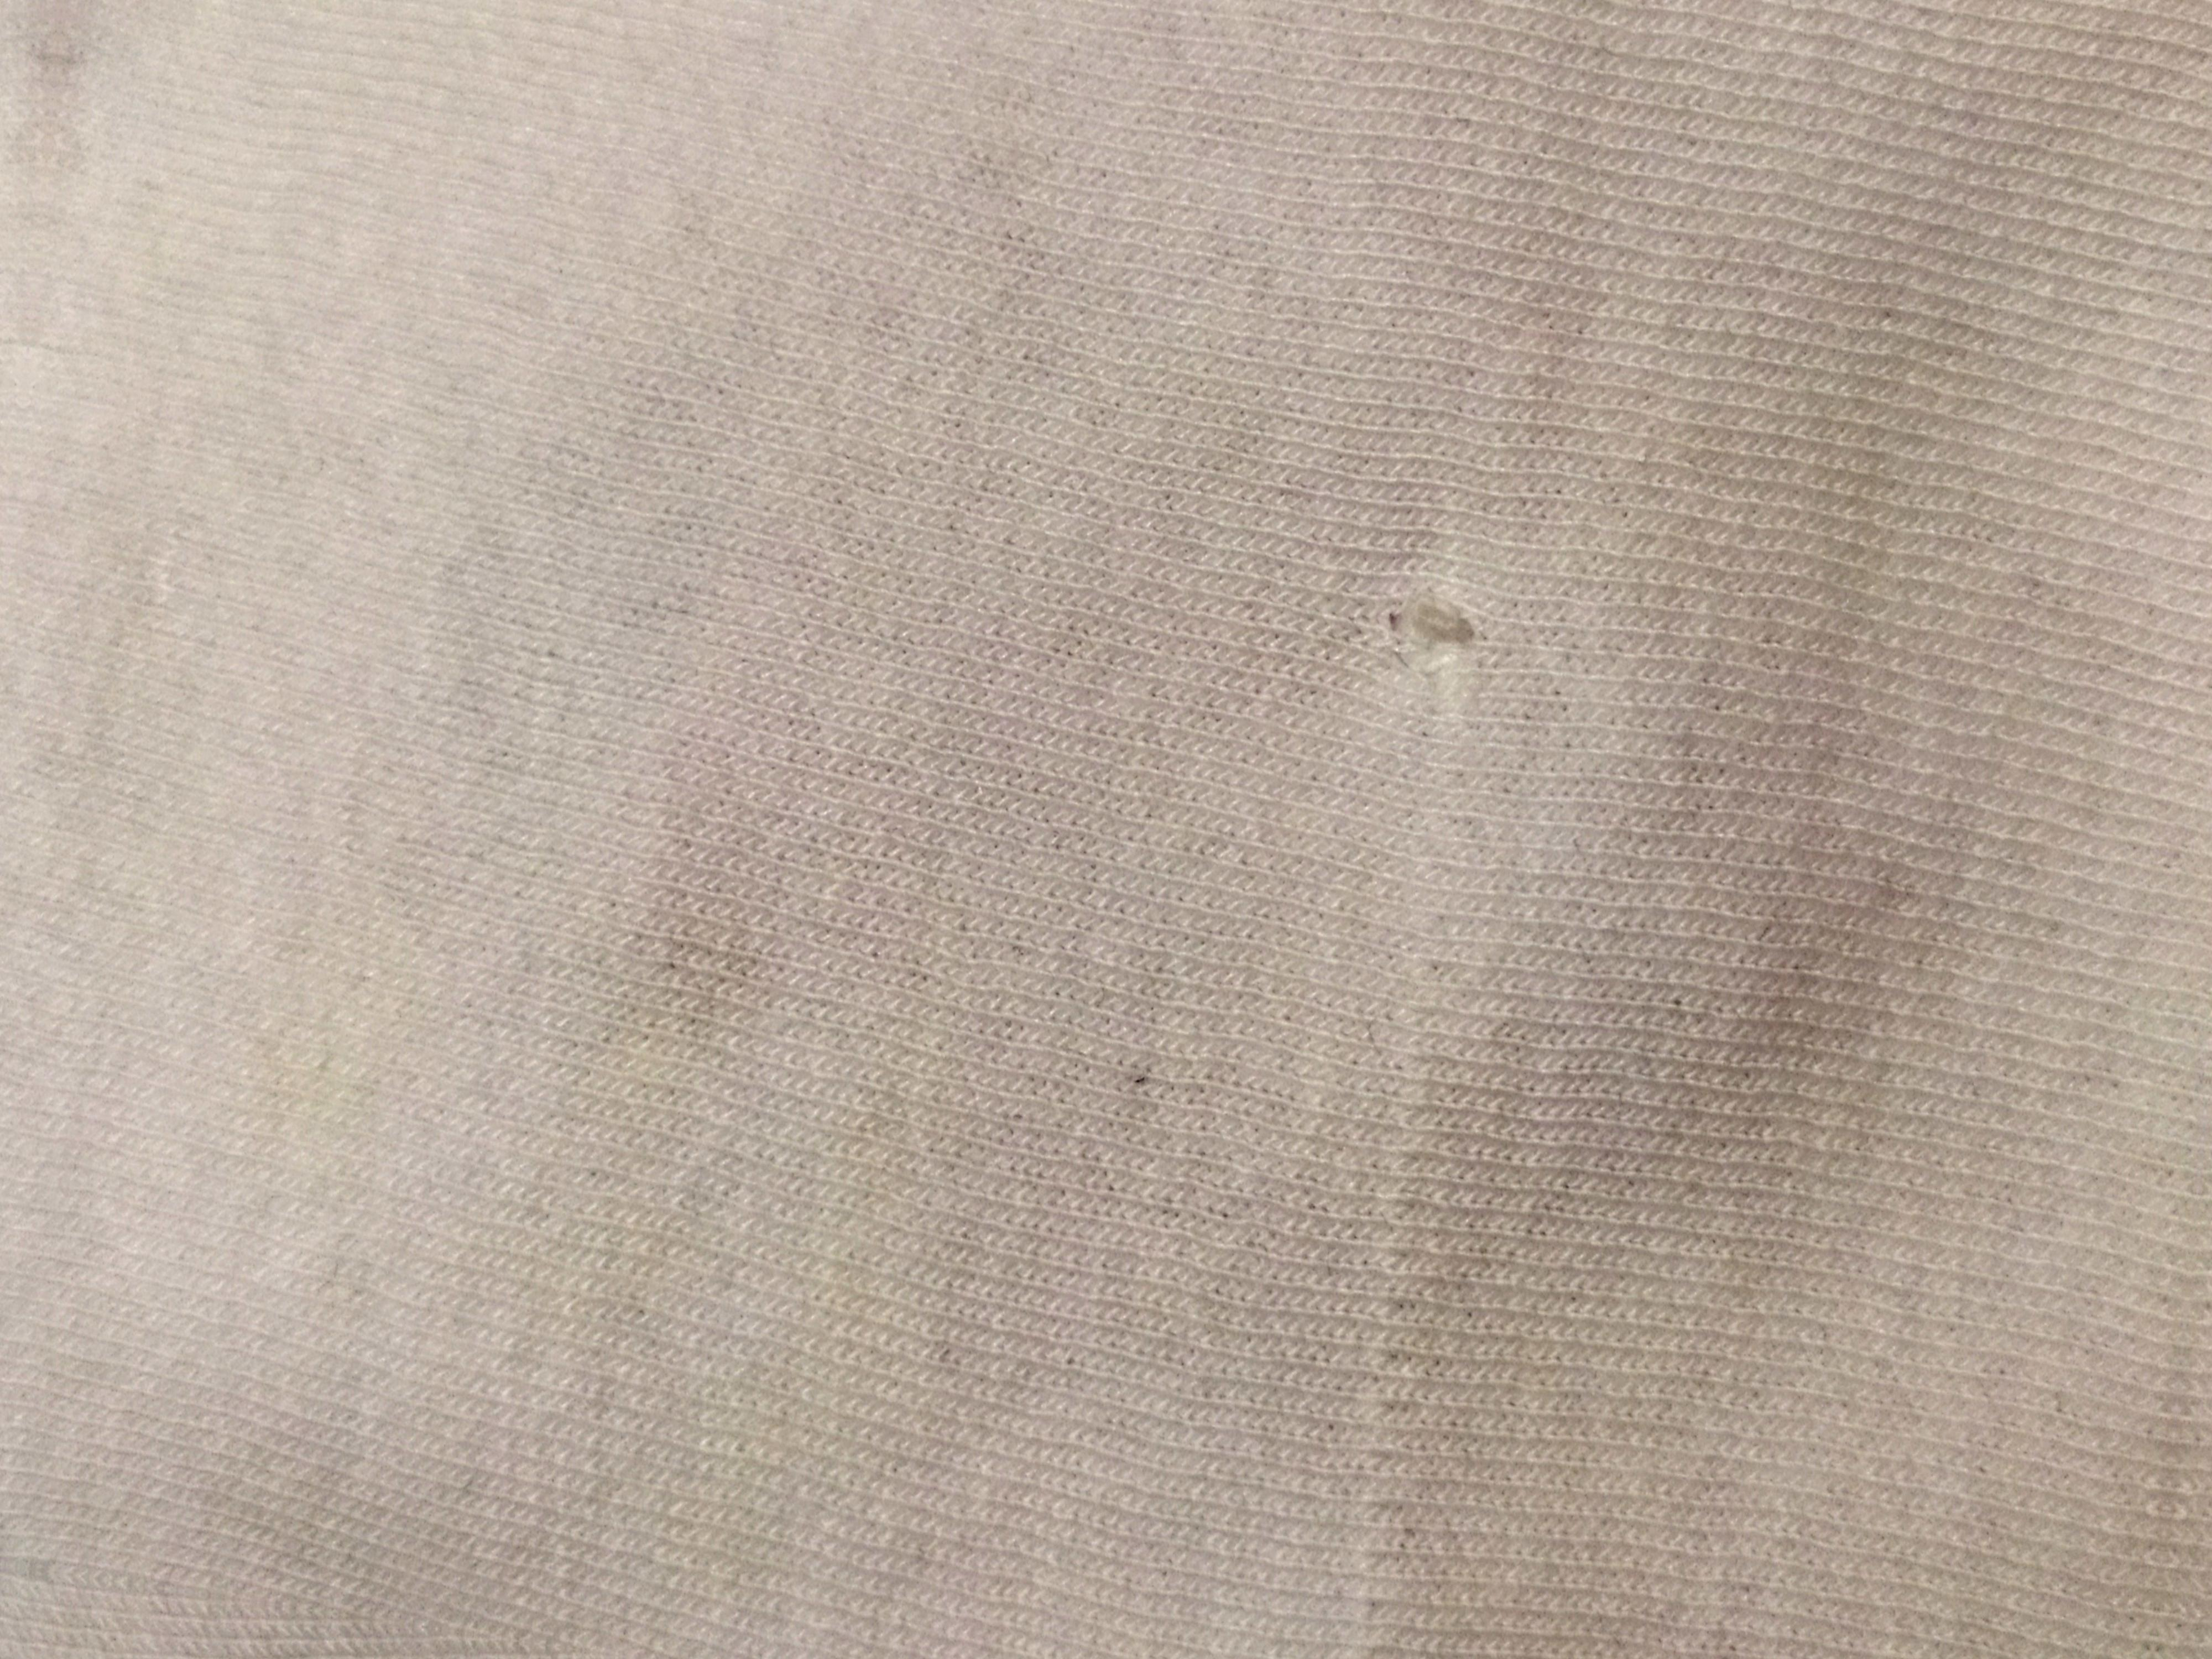knot: (1374, 568, 1517, 683)
